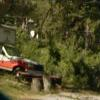Tree: (19, 8, 100, 79)
